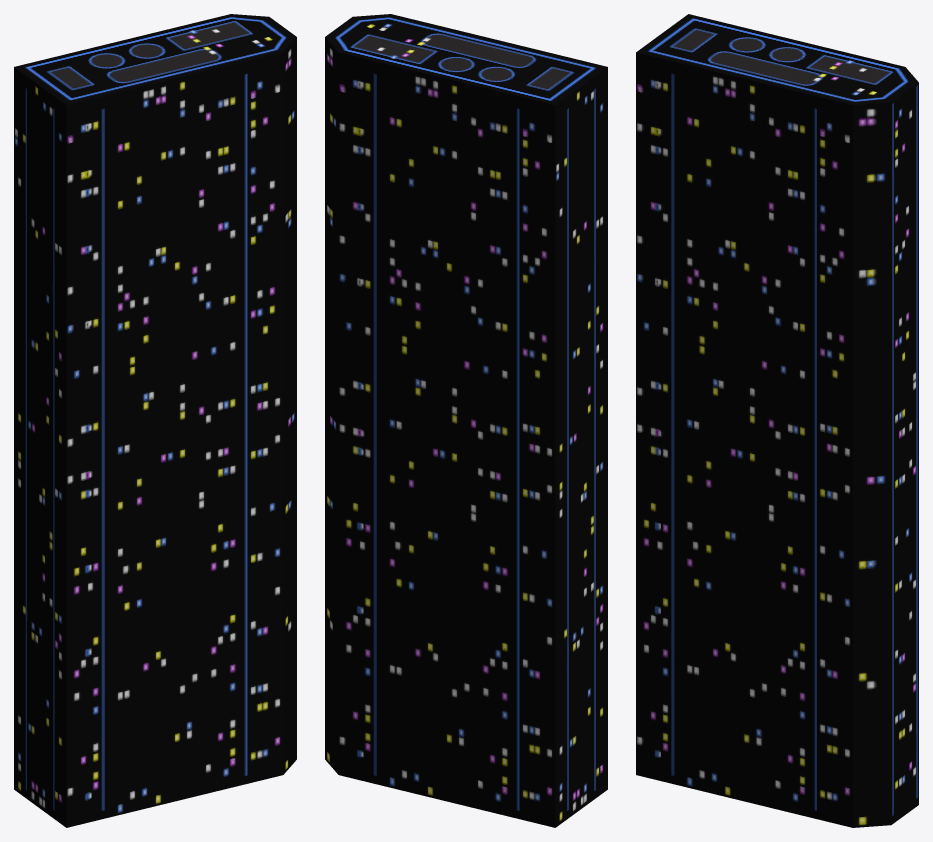
The model's file is bldg_012.fbx.
3 renders of one model, left to right at view 1: azimuth 30°, elevation 25°; view 2: azimuth 150°, elevation 25°; view 3: azimuth 330°, elevation 25°, orthographic.
Visible parts, largest first — view 1: bldg_012; view 2: bldg_012; view 3: bldg_012.
Part boxes in pixels (left/top/right/bottom): bldg_012: left=14, top=14, right=296, bottom=827; bldg_012: left=325, top=14, right=607, bottom=827; bldg_012: left=636, top=14, right=918, bottom=827.
Size of the model in its own units: 349 by 993 by 131.
1 material, 1 textured.
